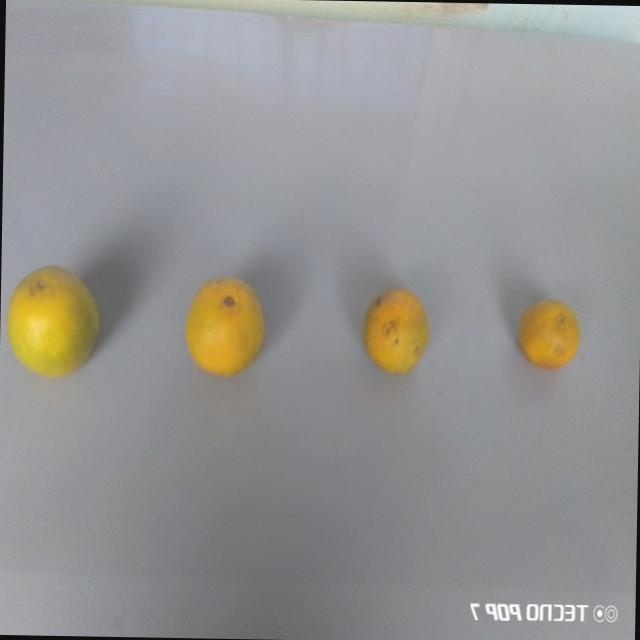agrume: (4, 258, 104, 385), (181, 268, 270, 390), (357, 285, 434, 386), (511, 292, 583, 380)
